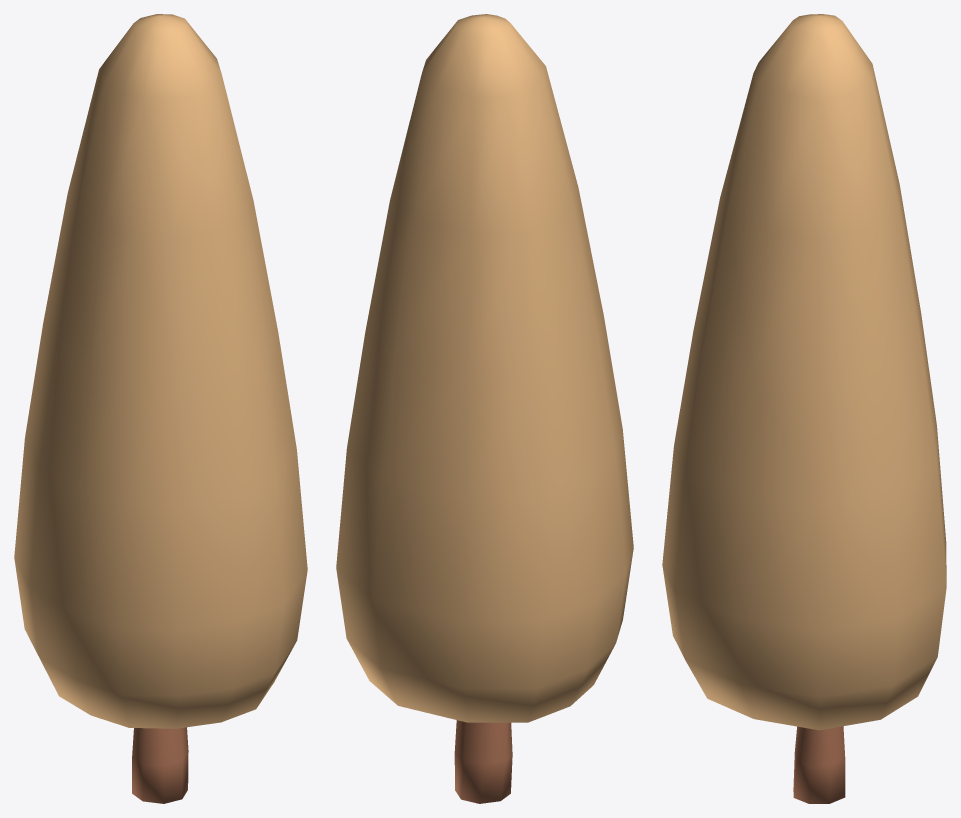
Rendered from TreeSimple_01_LOD2.gltf.
3 views of the same model, side by side, from view 1: azimuth 30°, elevation 25°; view 2: azimuth 150°, elevation 25°; view 3: azimuth 270°, elevation 25° (orthographic).
Parts seen in each view (by area): view 1: TreeSimple_01_LOD2_Cylinder.594; view 2: TreeSimple_01_LOD2_Cylinder.594; view 3: TreeSimple_01_LOD2_Cylinder.594.
Part boxes in pixels (x1,y1,x2,y2): TreeSimple_01_LOD2_Cylinder.594: (14,14,307,803); TreeSimple_01_LOD2_Cylinder.594: (336,14,633,803); TreeSimple_01_LOD2_Cylinder.594: (662,14,946,803).
Bounding box in the file's own units: 4.24 × 12.26 × 4.05.
1 material, 1 textured.
